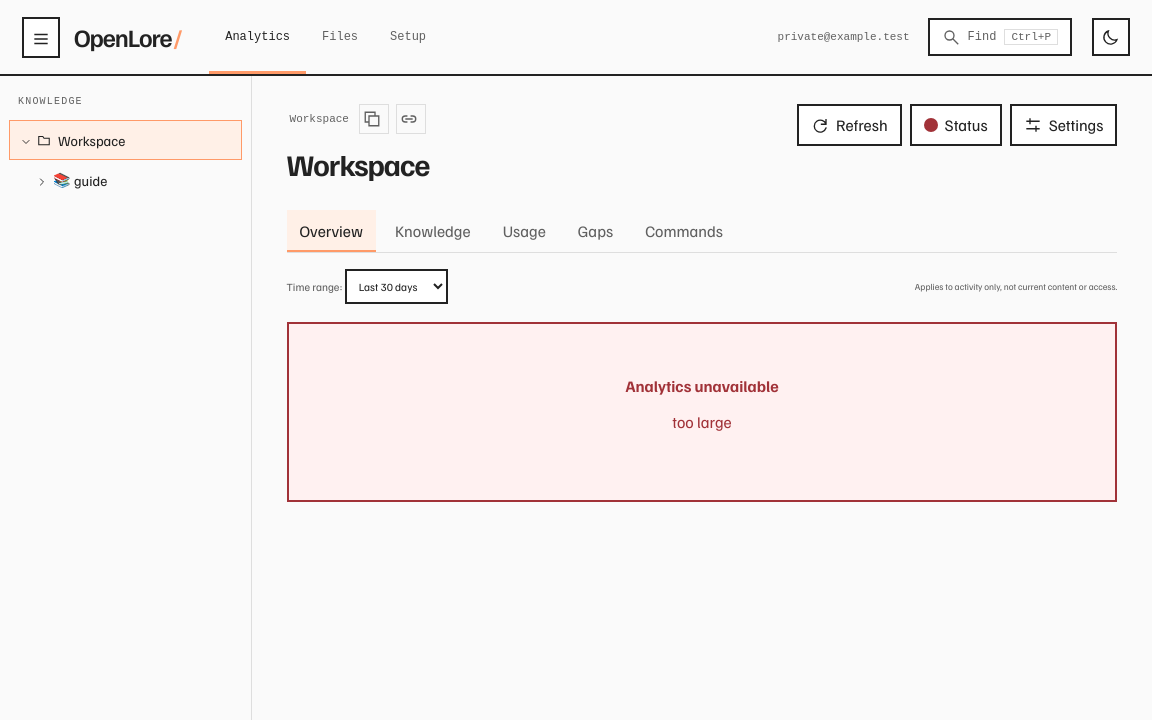
shows honest oversized-context error and hides Access without permission
Check: the message shows "too large", box [672,412,732,432]
Click the button with aria-label "Analytics status" at point(956, 125), box [910,104,1002,146]
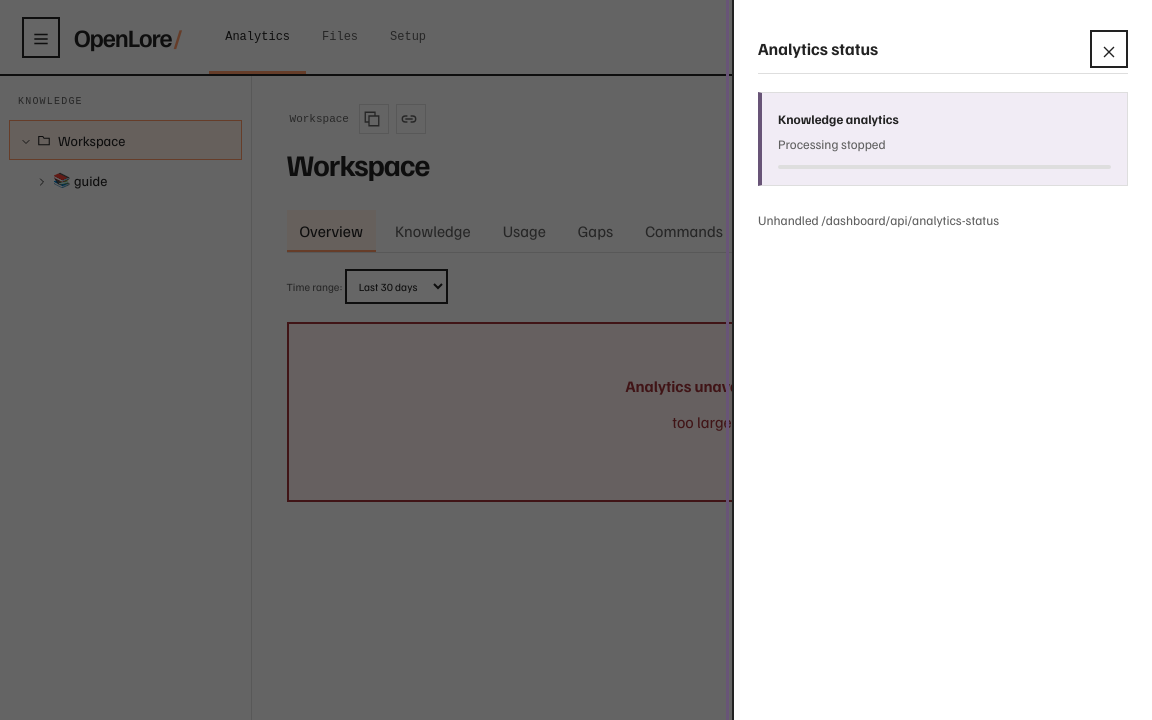
Check: the text "Processing stopped" is shown, box [778,136,886,152]
